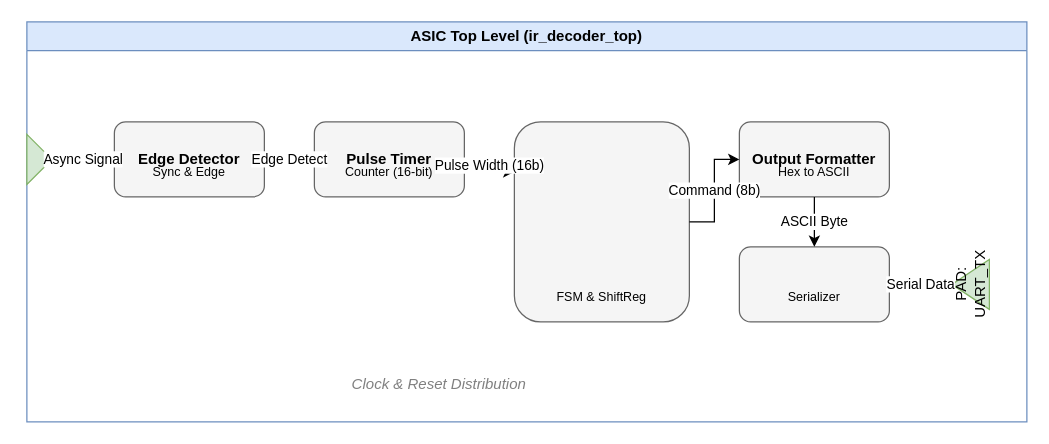
Image size: 1049x444. Some labels were removed from this diagram. The shapes that lost their labels are listed below. From the top down, each one's box as (x1, y1, x2, y2) in pixels, then its label:
(26, 133, 52, 184): PAD: IR_IN
(513, 121, 689, 322): NEC Decoder
(738, 246, 889, 322): UART TX
